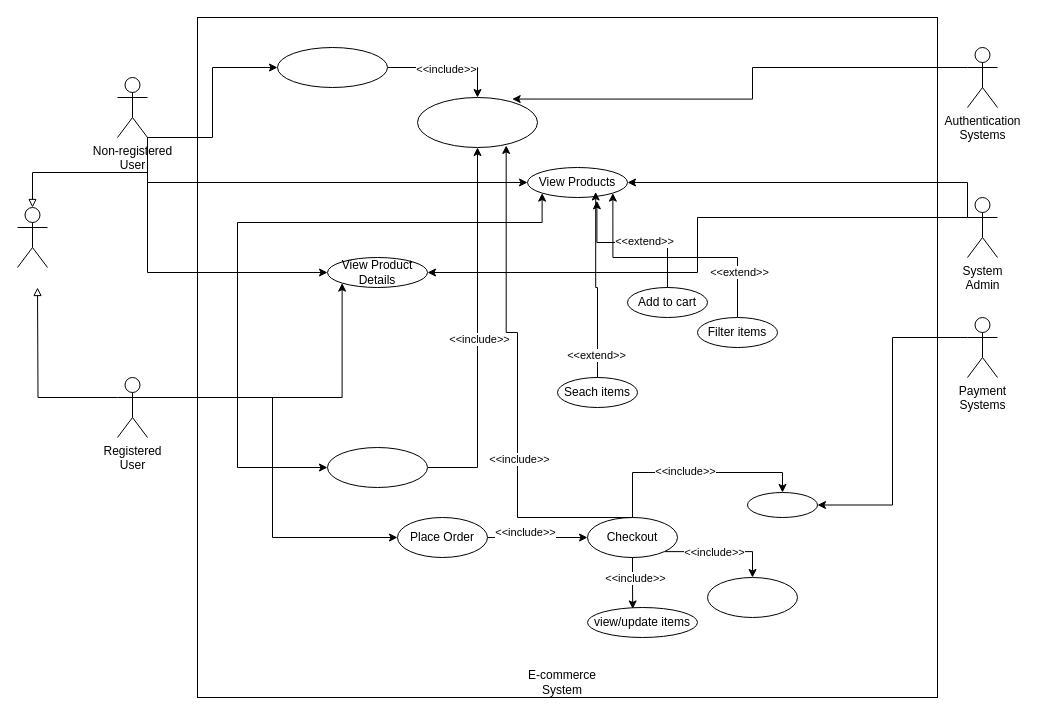
Some shapes in this 1038 by 715 pixel diagram are drawn without their labels. The centre of each missing label's shape, as x and y in pixels:
Calculate Total: pixel 752 597
Customer Authentication: pixel 477 122
Payment: pixel 782 505
Reset Password: pixel 377 467
User: pixel 32 237
User Registration: pixel 332 67
